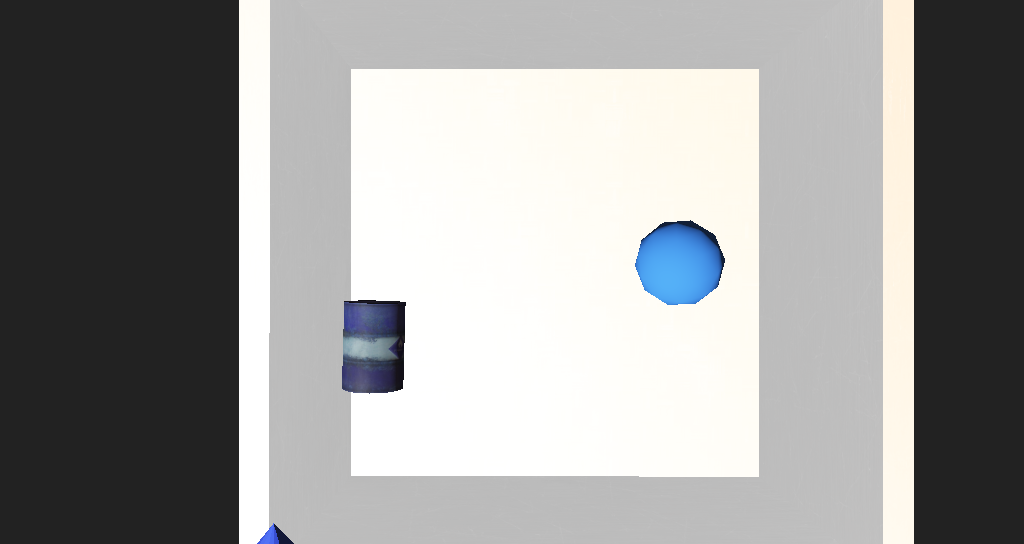cone: (344, 282, 397, 329)
cylinder: (222, 356, 384, 465)
sphere: (559, 239, 627, 286)
